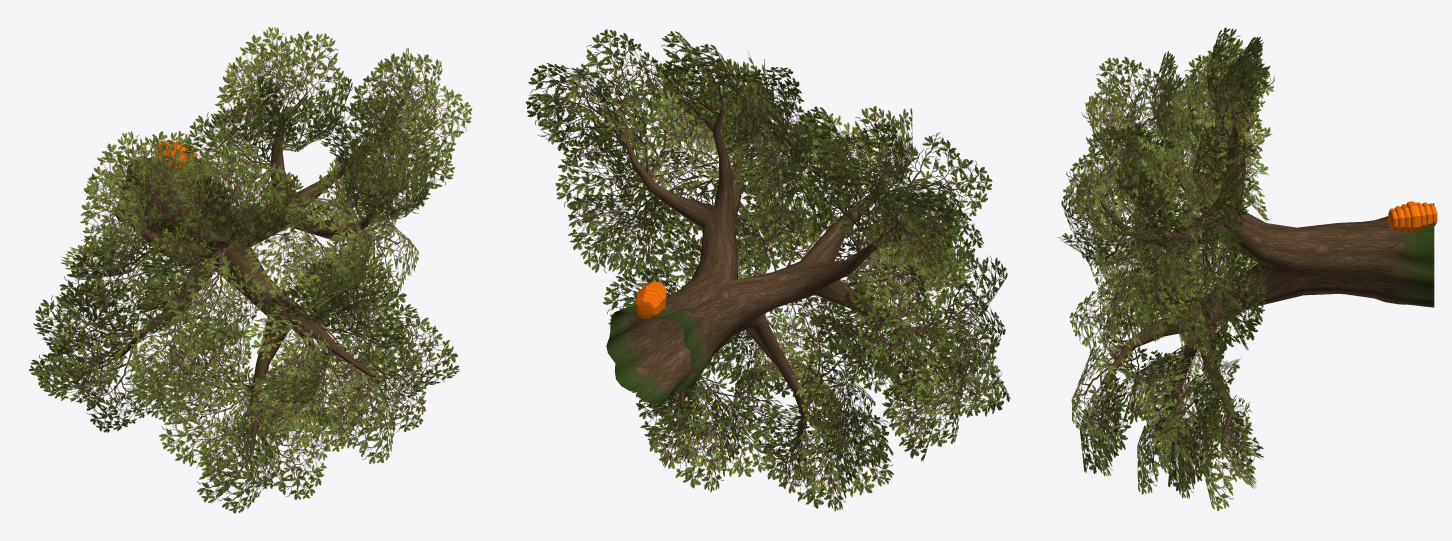
File: BigTree.glb
3 renders of one model, left to right at view 1: azimuth 30°, elevation 25°; view 2: azimuth 150°, elevation 25°; view 3: azimuth 270°, elevation 25°, orthographic. The views are drawn at different scales.
Visible parts, largest first — view 1: Oak_tree1; view 2: Oak_tree1, sm_beehive_01; view 3: Oak_tree1, sm_beehive_01.
Boxes of the visible parts, bbox=[...] form: Oak_tree1: bbox=[28, 27, 472, 513]; Oak_tree1: bbox=[526, 29, 1010, 511]; sm_beehive_01: bbox=[635, 281, 666, 319]; Oak_tree1: bbox=[1057, 27, 1434, 510]; sm_beehive_01: bbox=[1388, 201, 1437, 232].
Bounding box in the file's own units: 20.96 × 20.18 × 14.2.
Materials: 3 (3 with a texture image).
